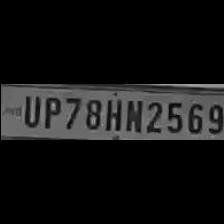2: (142, 99, 162, 134)
5: (164, 99, 182, 134)
6: (185, 100, 203, 134)
7: (60, 94, 80, 130)
8: (81, 96, 101, 130)
9: (204, 102, 222, 134)
H: (102, 96, 120, 130)
N: (122, 97, 140, 133)
P: (40, 94, 60, 130)
U: (18, 94, 38, 128)
